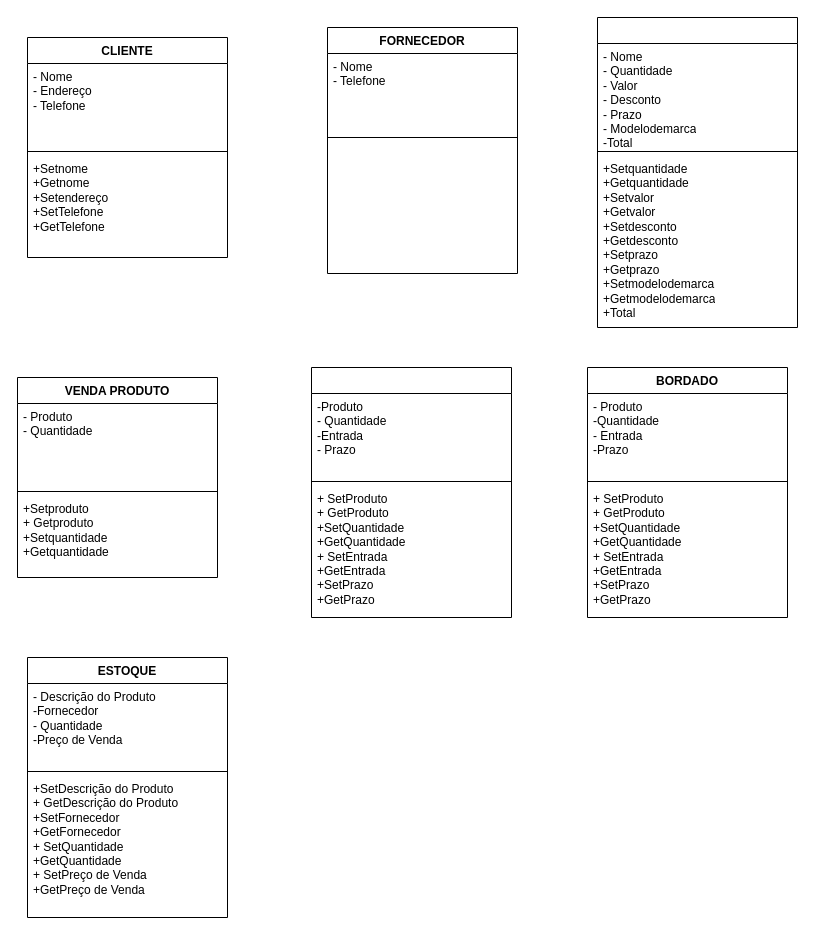
Some shapes in this 815 by 938 pixel diagram are drawn without their labels. The shapes that lost their labels are listed below. From the top down, each one's box as (x1, y1, x2, y2) in pixels, then its label:
(596, 16, 798, 328): PEDIDO
(310, 366, 512, 618): COSTURA
